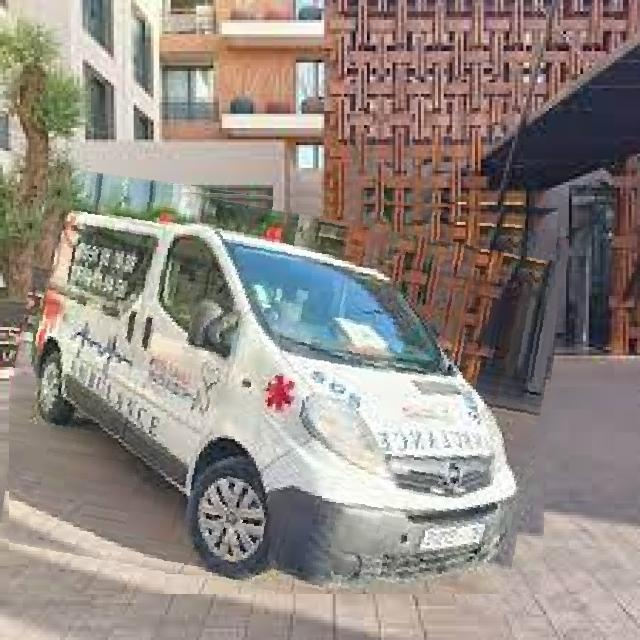ambulance: (9, 184, 558, 594)
